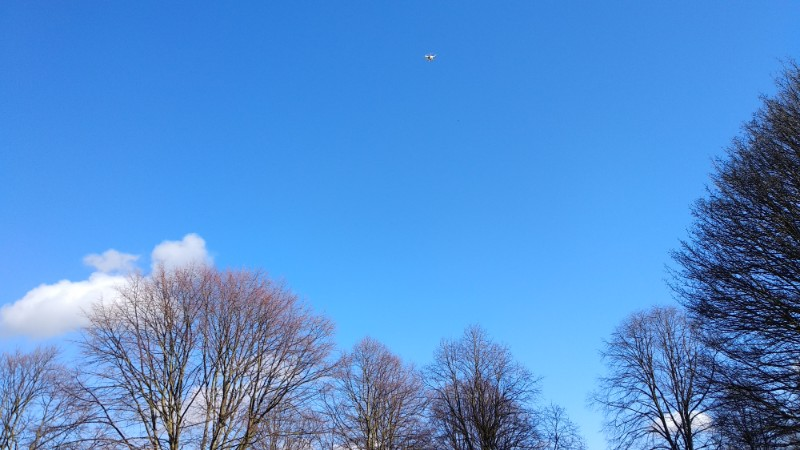drone: (423, 51, 436, 62)
